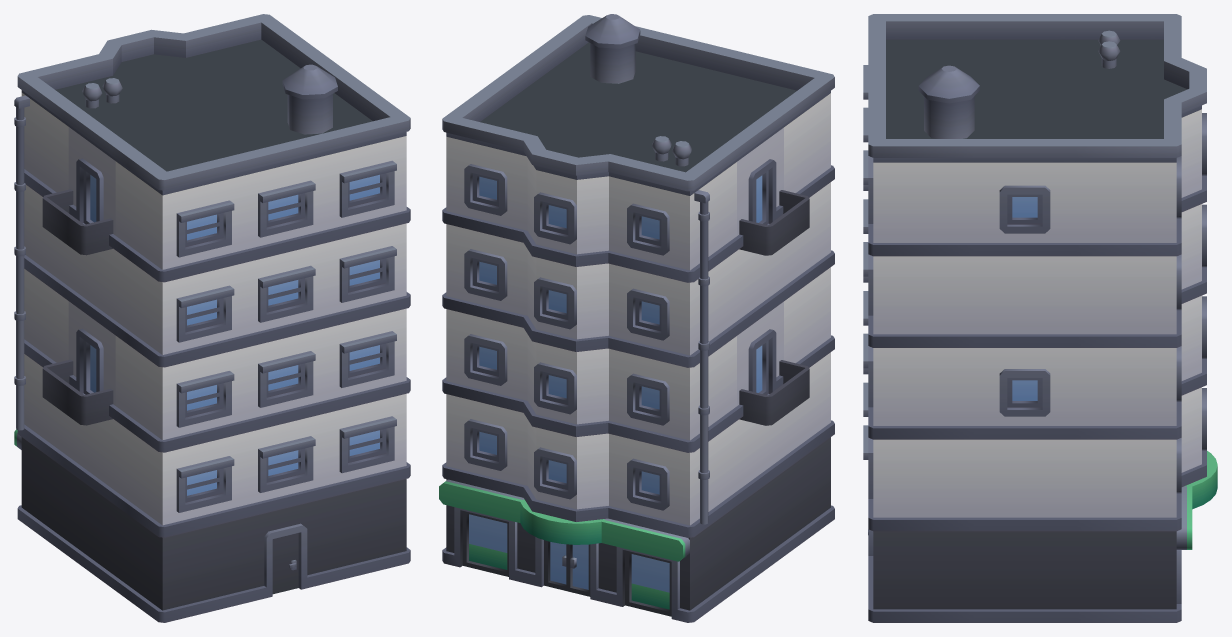
File: k-city-kit-commercial-building-l.glb
The picture shows the model from 3 angles, left to right: view 1: azimuth 30°, elevation 25°; view 2: azimuth 150°, elevation 25°; view 3: azimuth 270°, elevation 25°; orthographic projection. The views are drawn at different scales.
Visible parts, largest first — view 1: building-l; view 2: building-l; view 3: building-l.
Part boxes in pixels (bbox=[...]): building-l: bbox=[14, 14, 410, 622]; building-l: bbox=[439, 14, 834, 622]; building-l: bbox=[863, 14, 1217, 622].
Bounding box in the file's own units: 1.37 × 2.27 × 1.4.
1 material, 1 textured.
